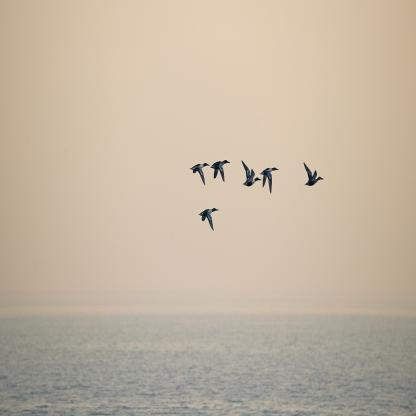bird: (241, 160, 261, 186), (260, 168, 280, 194), (198, 207, 219, 231), (190, 162, 211, 185), (303, 162, 323, 185), (210, 160, 230, 181)
